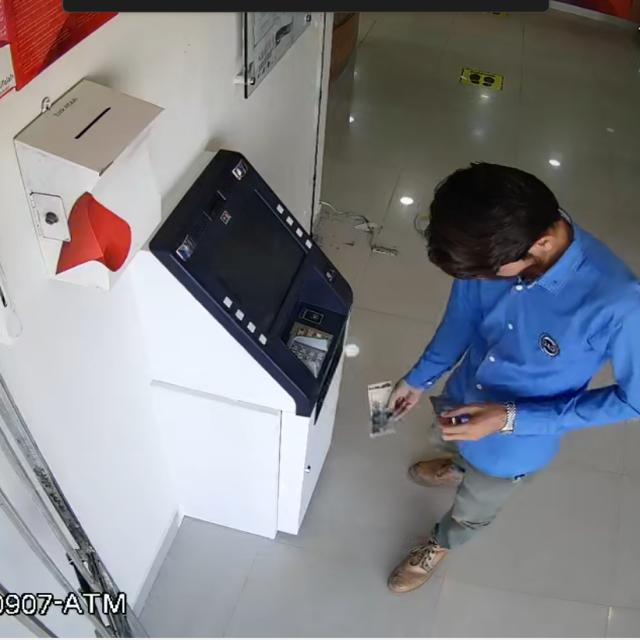note: (358, 375, 406, 448)
